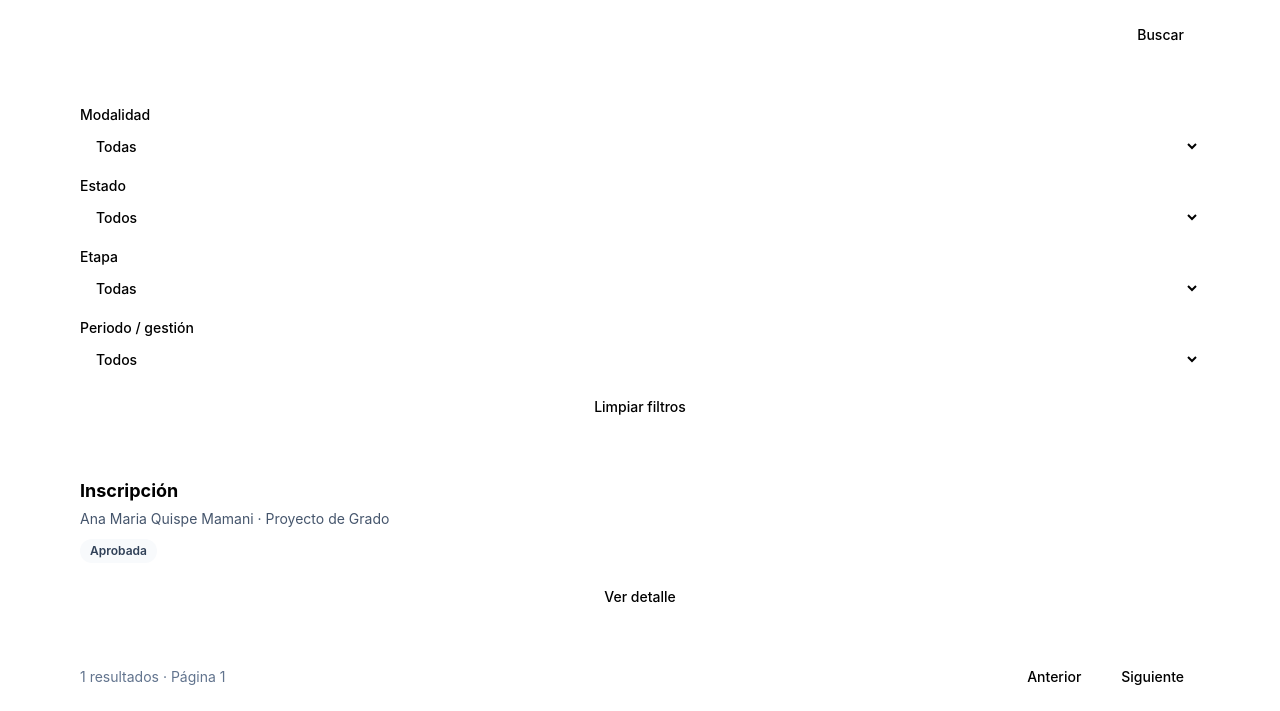
Test: SeguimientoPage › usa Ver detalle sin acciones y no promete una transición
(page scrolled)
Click the button "Ver detalle".
click(640, 597)  # box x1=80 y1=579 x2=1200 y2=615
(page scrolled)
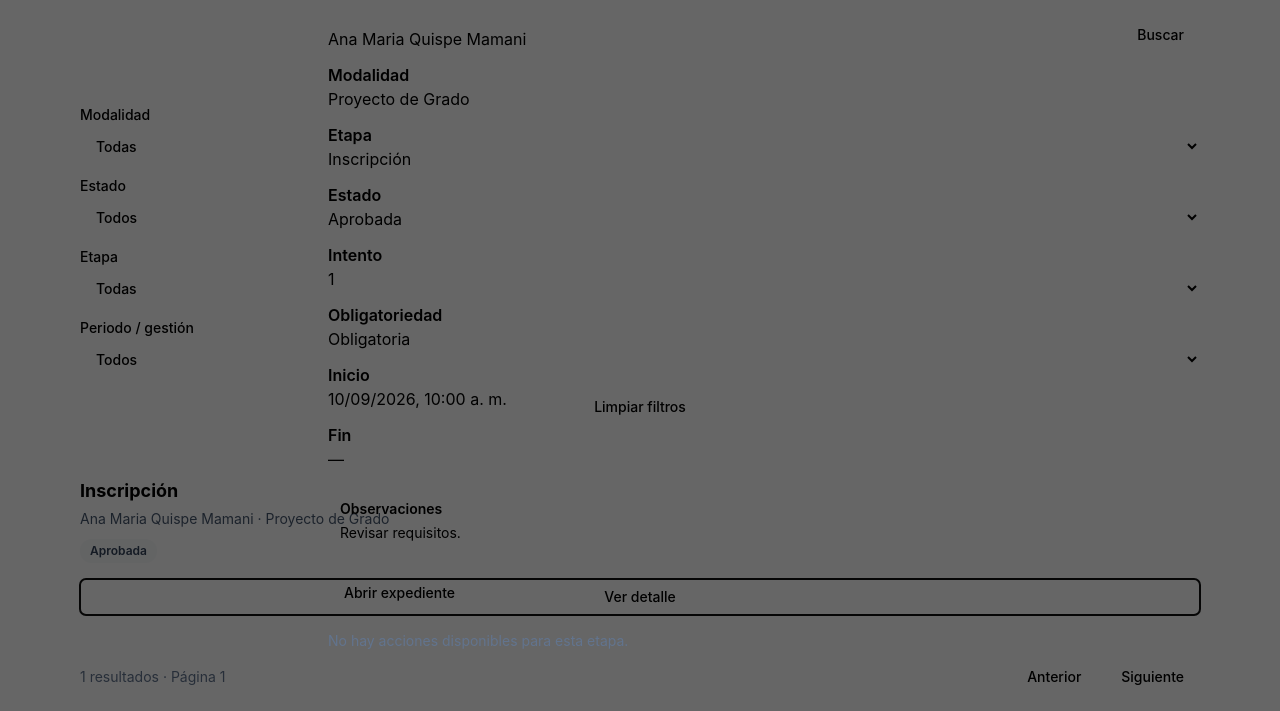
Check: the text "No hay acciones disponibles para esta etapa." is shown, box x1=328 y1=632 x2=628 y2=649
